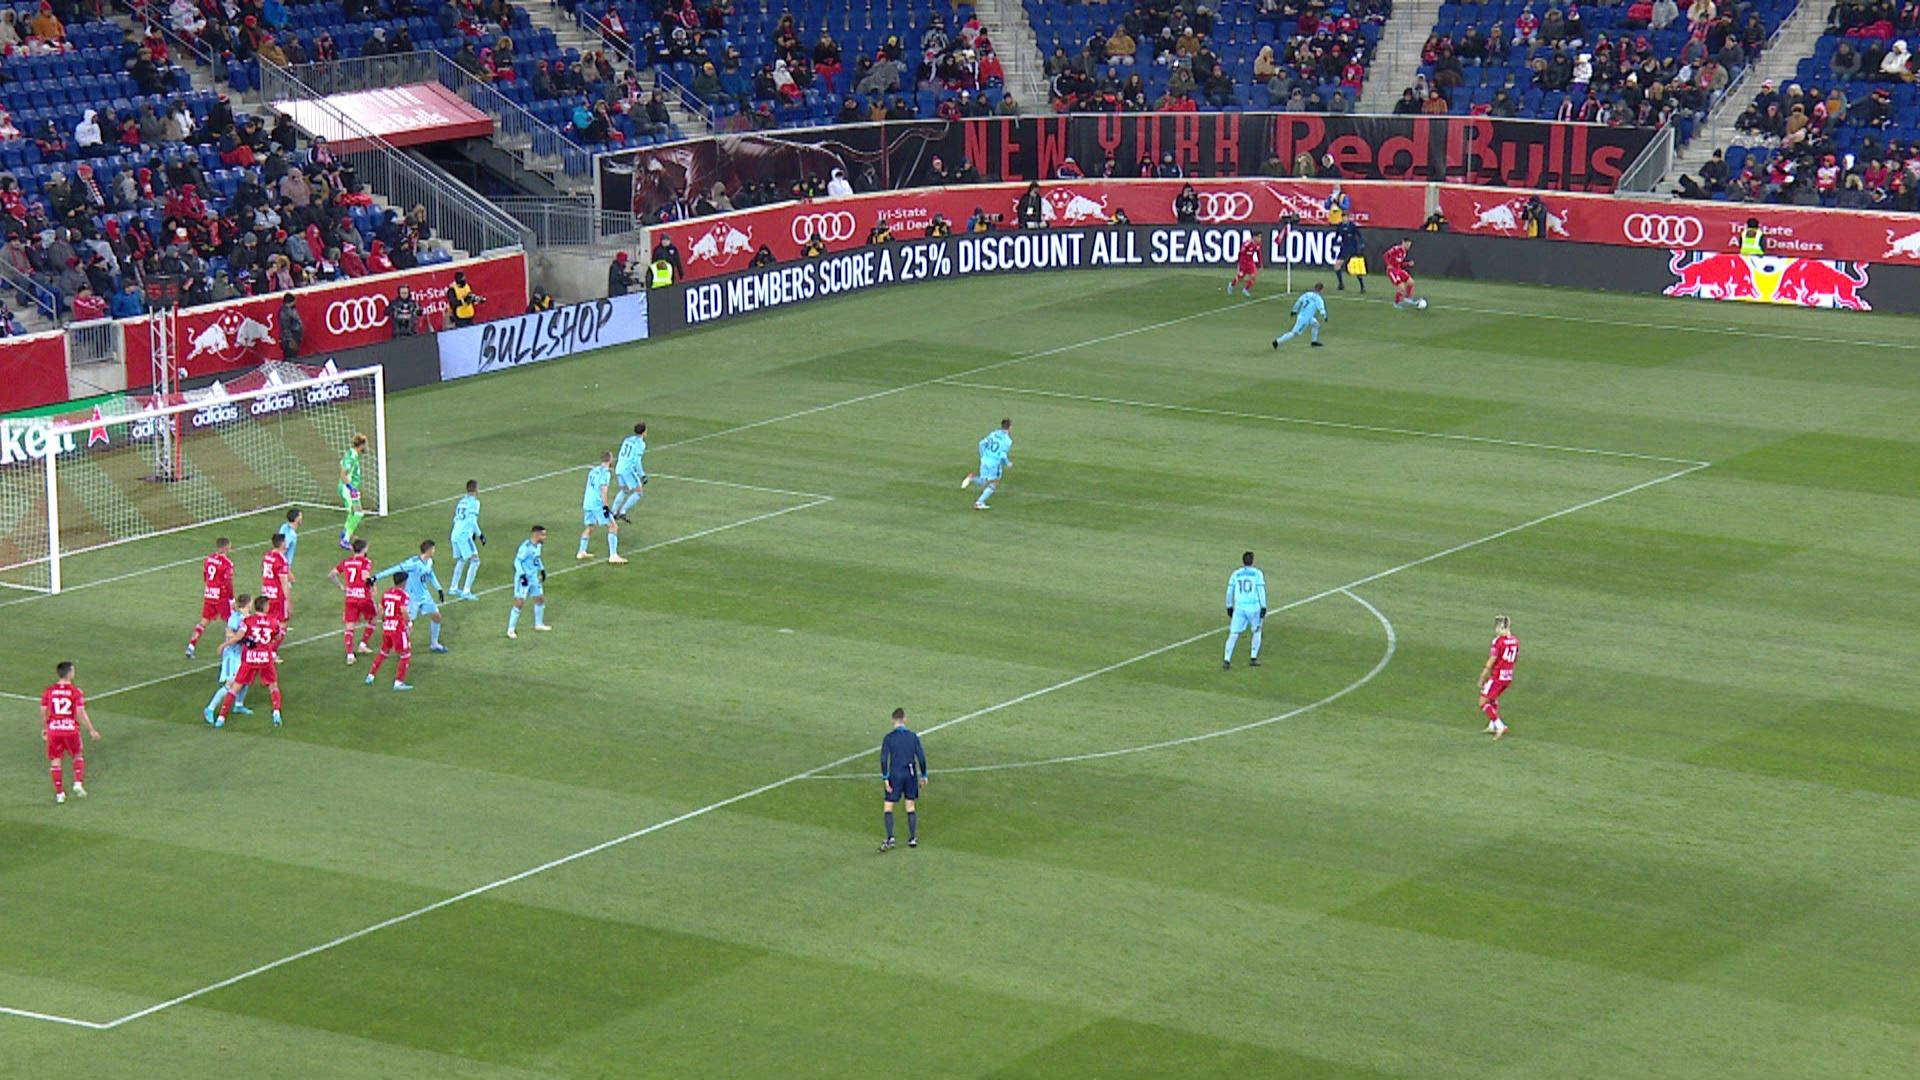football: (1416, 298, 1428, 310)
